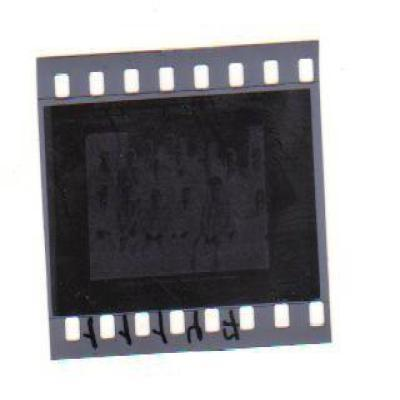photos_negatives: (38, 100, 323, 296)
